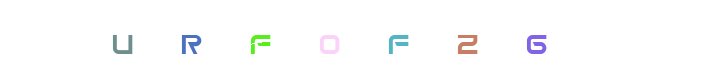0: (308, 0, 388, 80)
2: (427, 0, 507, 80)
6: (496, 0, 576, 80)
F: (219, 0, 299, 80), (312, 0, 392, 80)
R: (150, 0, 230, 80)
U: (85, 0, 165, 80)
